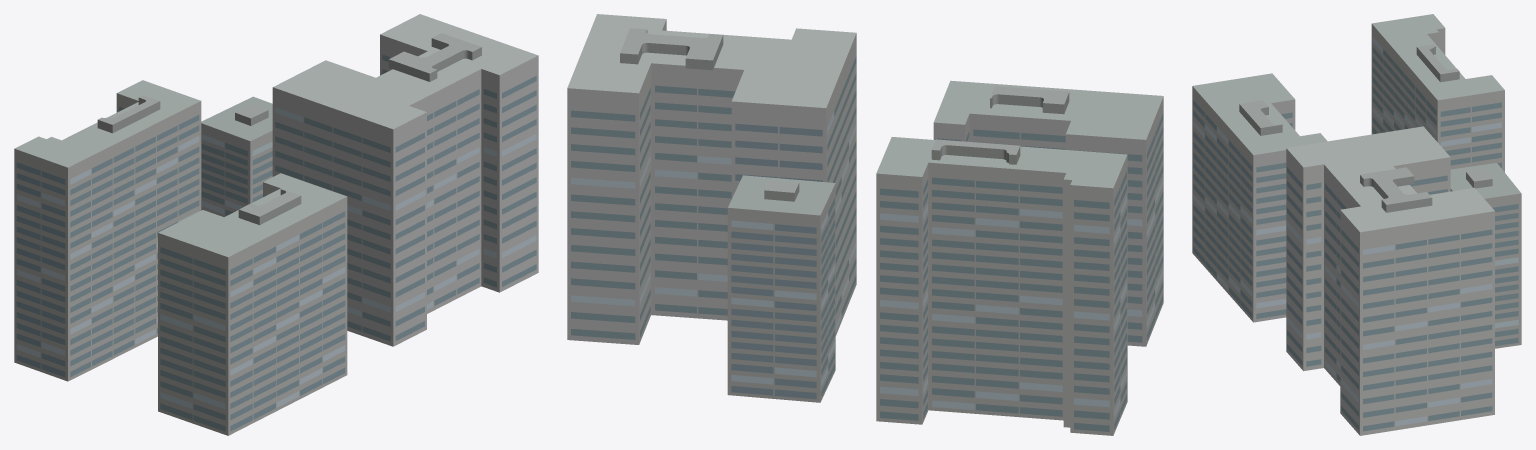
Rendered from apt-a10022623.glb.
3 renders of one model, left to right at view 1: azimuth 30°, elevation 25°; view 2: azimuth 150°, elevation 25°; view 3: azimuth 270°, elevation 25°, orthographic. The views are drawn at different scales.
Visible parts, largest first — view 1: apt-a10022623; view 2: apt-a10022623; view 3: apt-a10022623.
Part boxes in pixels (x1,y1,x2,y2): apt-a10022623: [14, 14, 538, 435]; apt-a10022623: [567, 14, 1163, 435]; apt-a10022623: [1192, 14, 1521, 435].
Size of the model in its own units: 144 by 64 by 90.24.
